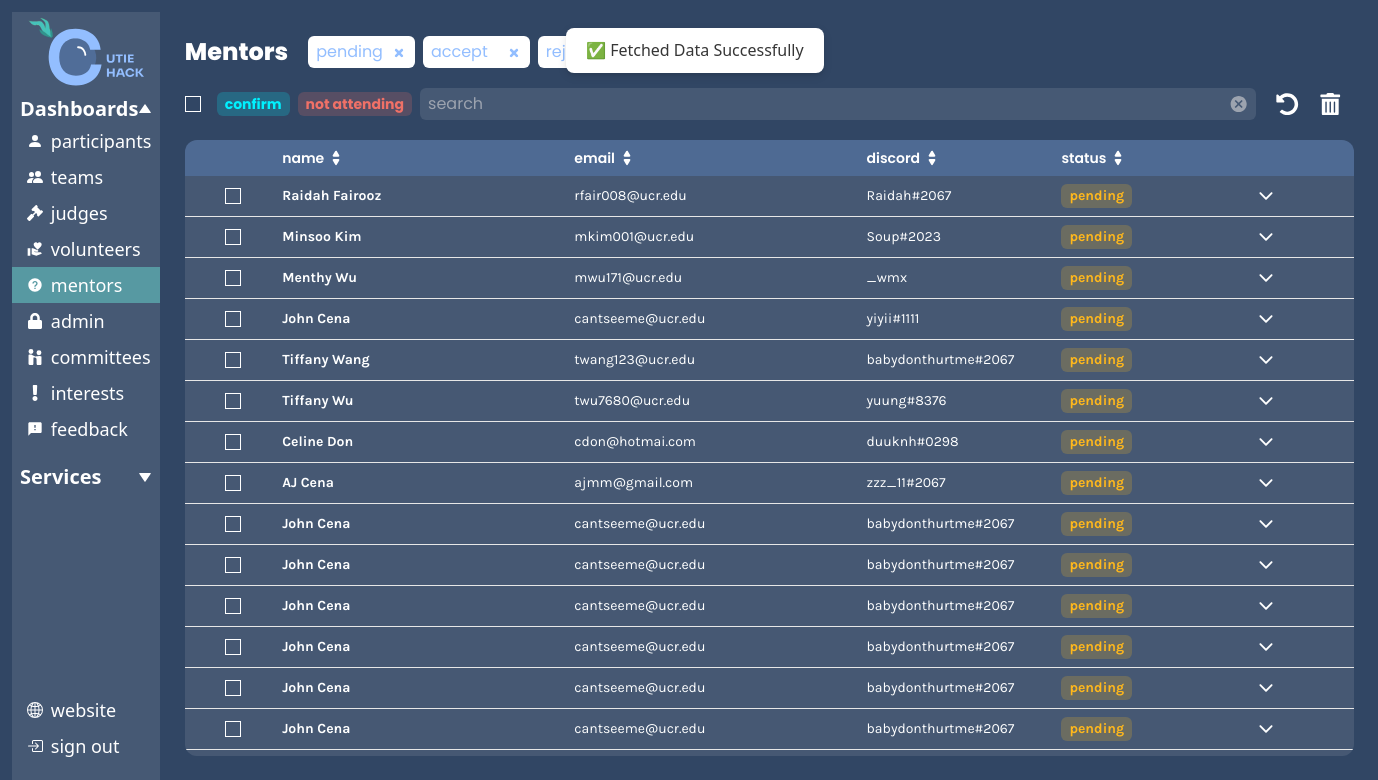
Mentor Sort › Sort Name Up
Click the icon with test id "name-sort-up". click: (336, 154)
box: [332,150,340,158]
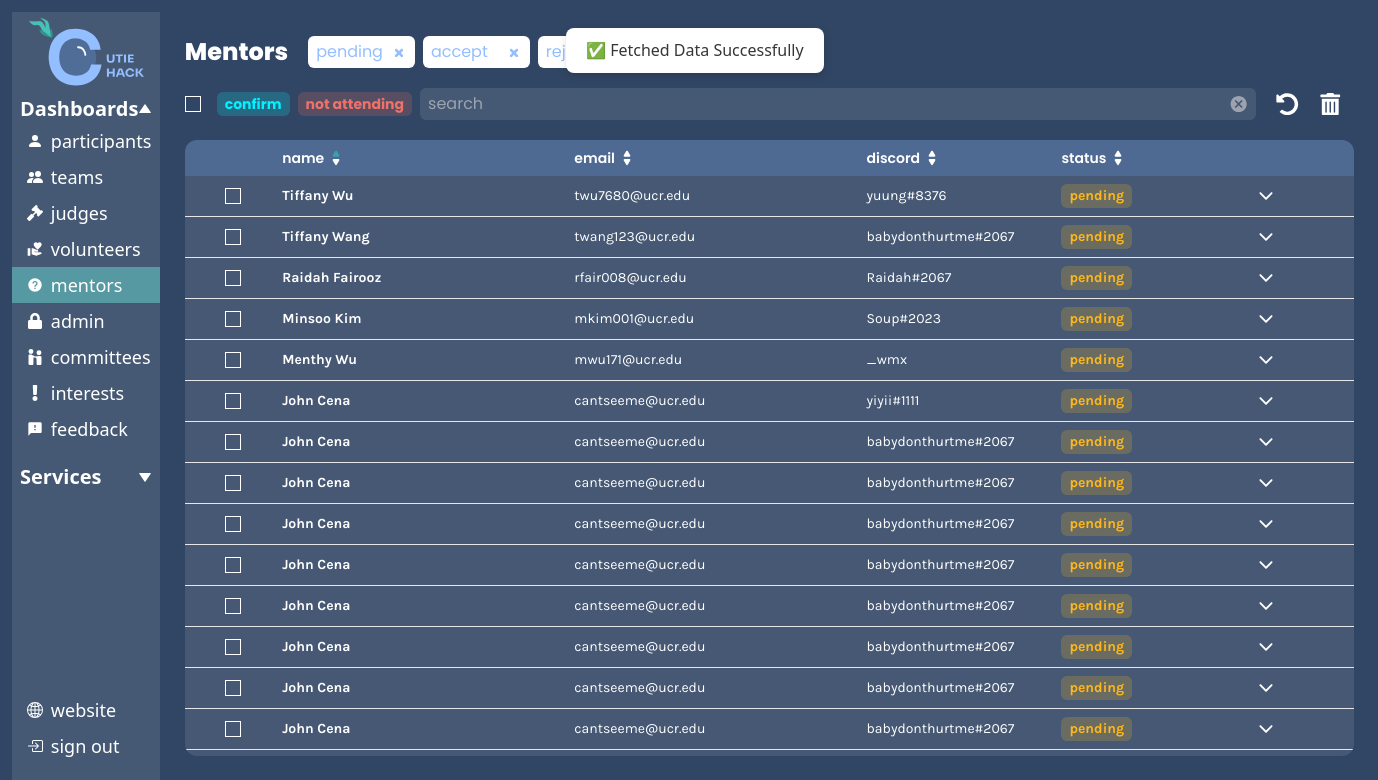
Expected: the text with test id "name" reads "Tiffany Wu", [282,186,353,206]
Expected: the text with test id "name" reads "Tiffany Wang", [282,227,370,247]
Expected: the text with test id "name" reads "Raidah Fairooz", [282,268,381,288]
